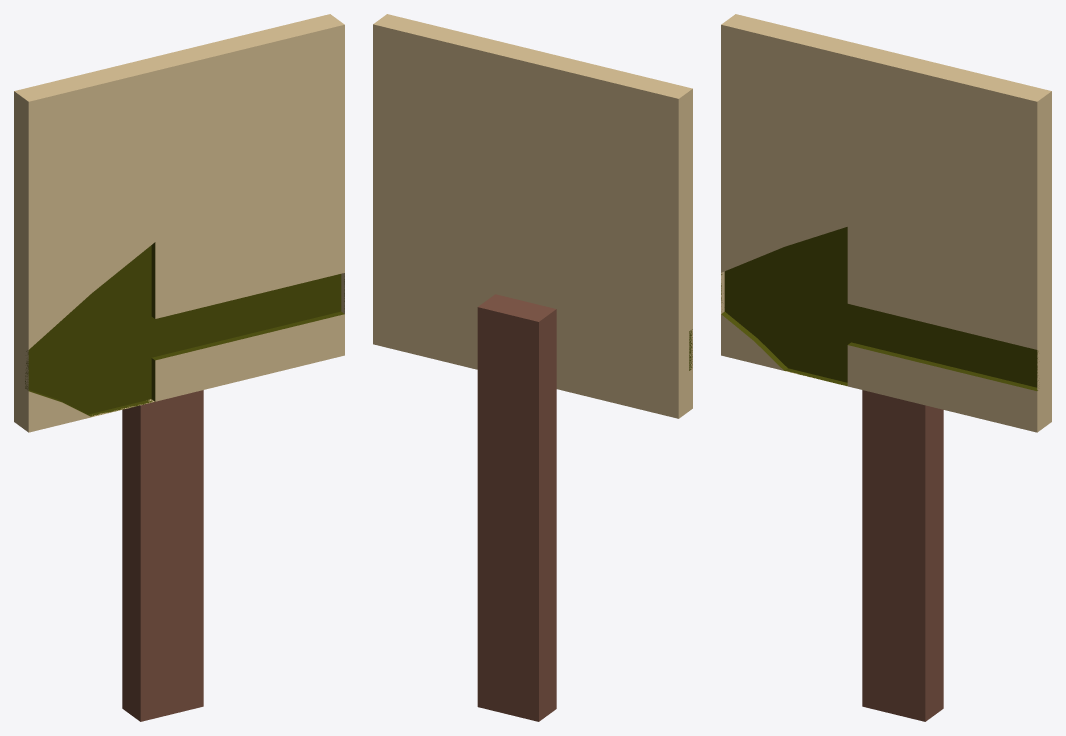
File: SkiltV.FBX
The picture shows the model from 3 angles, left to right: view 1: azimuth 30°, elevation 25°; view 2: azimuth 150°, elevation 25°; view 3: azimuth 330°, elevation 25°; orthographic projection. The views are drawn at different scales.
Parts seen in each view (by area): view 1: SkiltV; view 2: SkiltV; view 3: SkiltV.
Part boxes in pixels (x1,y1,x2,y2): SkiltV: [14, 14, 344, 721]; SkiltV: [373, 14, 692, 721]; SkiltV: [721, 14, 1051, 721].
Size of the model in its own units: 1 by 2 by 0.18.
